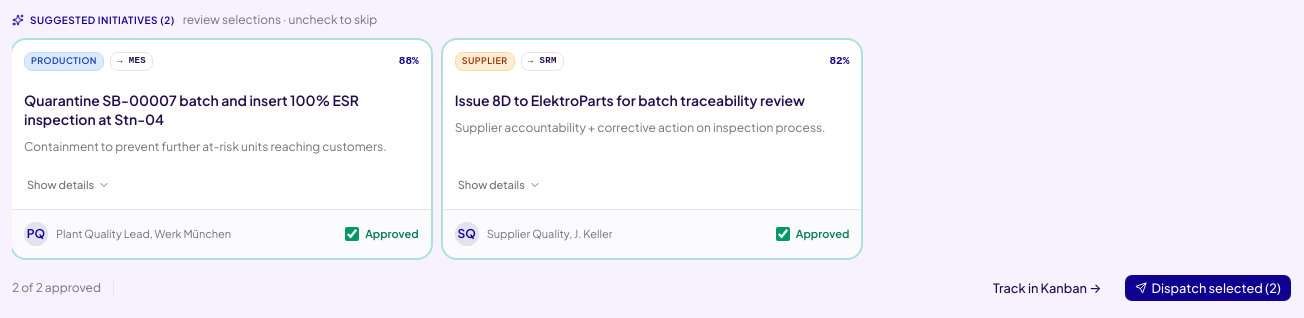
Test: InitiativesPreview — dispatch flow › shows error inline when fetch returns non-ok response
Click the button with test id "dispatch-button": click(1208, 288) [1124,274,1292,302]
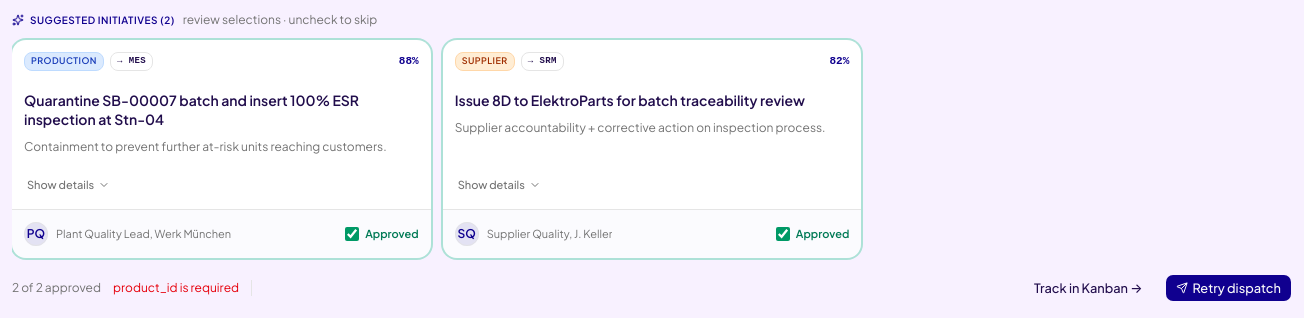
Expected: the text "product_id is required" is shown, [113,280,239,296]
